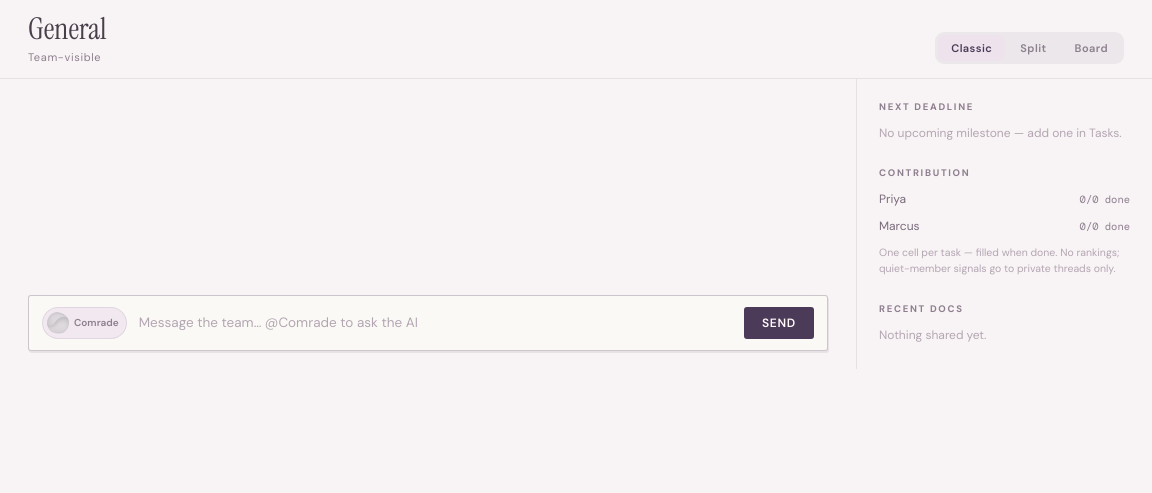
Test case: a turn that cannot run › an agent action expands to its saved arguments and diff
Type "@comrade what is left?" into the field with placeholder "Message the team… @Comrade to ask the AI" at coordinates (435, 322), box [137,306,734,338]
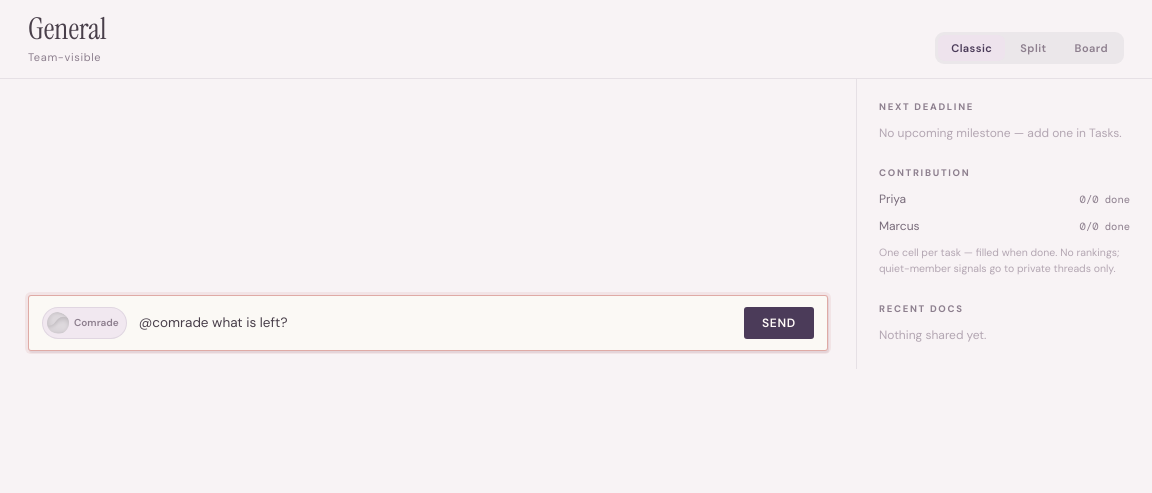
Click the button "SEND" at coordinates (779, 322), box [744,306,814,338]
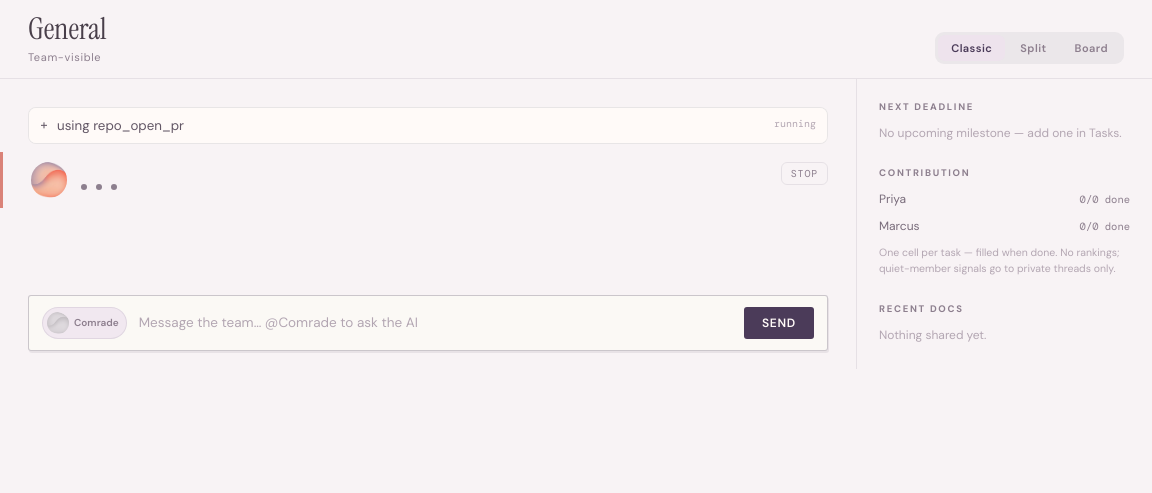
Click the button with aria-label "details for using repo_open_pr" at coordinates (120, 126), box [29,108,827,143]
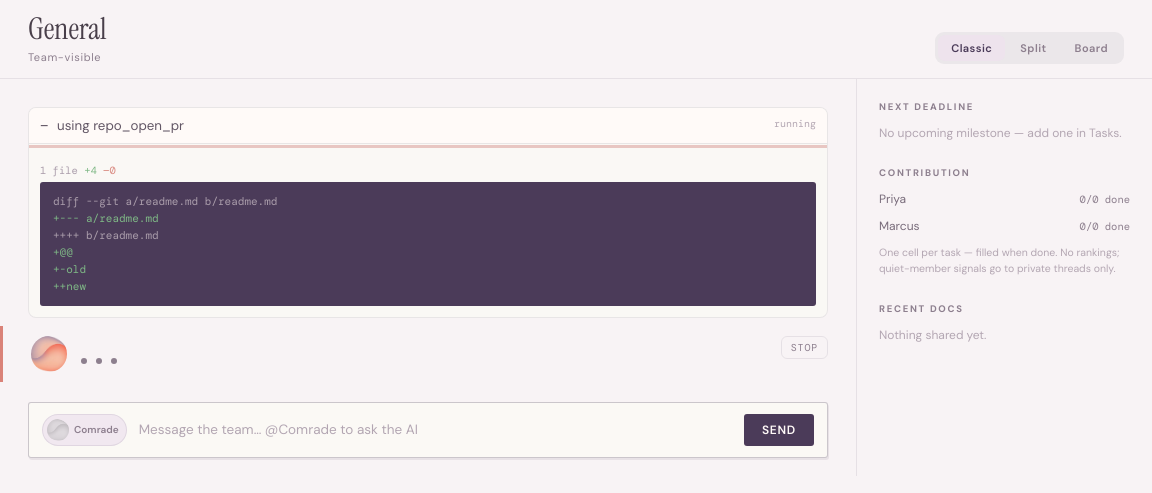
Now the text "readme.md" is shown, box [53,194,277,208]
